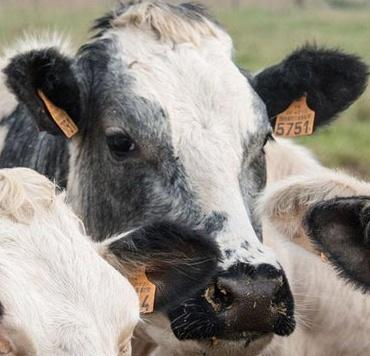muzzles: (173, 275, 304, 355)
